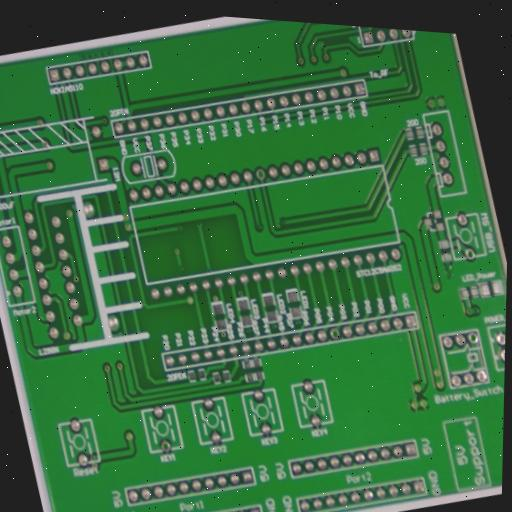missing_hole: (326, 323, 343, 344), (252, 165, 269, 185), (465, 328, 480, 346), (159, 438, 173, 455), (464, 247, 476, 262)
